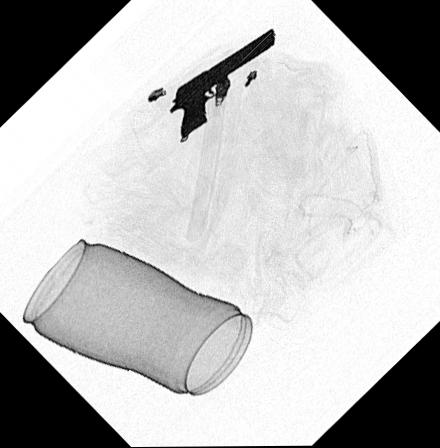Gun: (167, 28, 273, 139)
